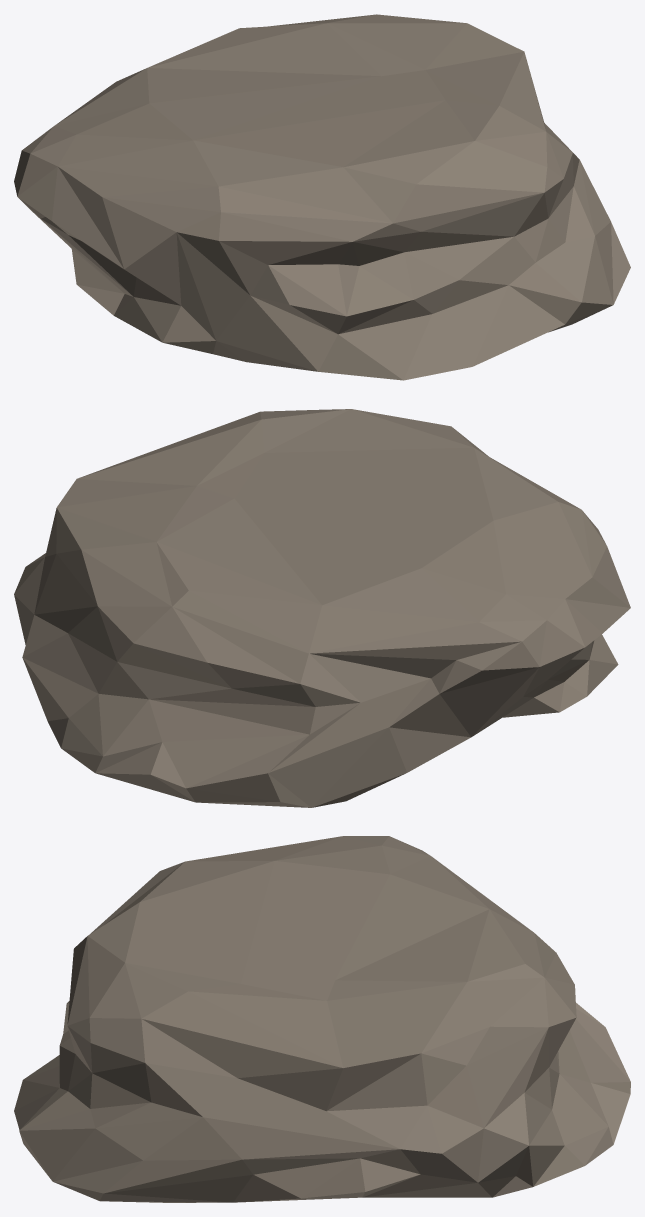
The model's file is SM_Env_Rock_05.fbx.
The picture shows the model from 3 angles, top to bottom: view 1: azimuth 30°, elevation 25°; view 2: azimuth 150°, elevation 25°; view 3: azimuth 270°, elevation 25°; orthographic projection. The views are drawn at different scales.
Parts seen in each view (by area): view 1: SM_Env_Rock_05; view 2: SM_Env_Rock_05; view 3: SM_Env_Rock_05.
Boxes of the visible parts, x1,y1,x2,y2 form: SM_Env_Rock_05: [14, 14, 630, 380]; SM_Env_Rock_05: [14, 409, 630, 807]; SM_Env_Rock_05: [14, 836, 630, 1202].
Size of the model in its own units: 669 by 238 by 675.
